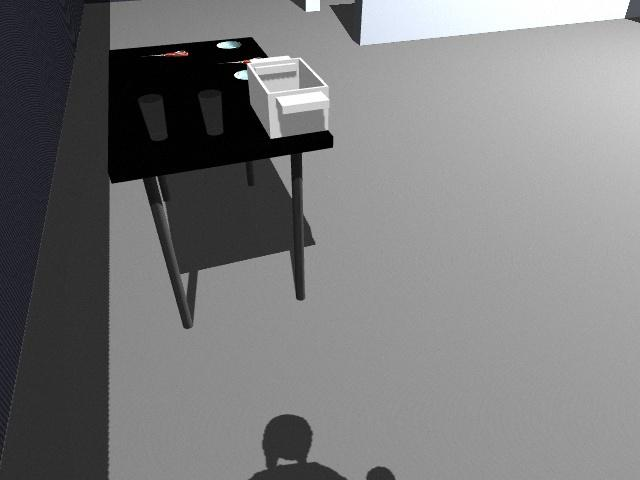cup: (139, 92, 168, 144), (197, 89, 223, 135)
plate: (215, 39, 243, 51), (234, 68, 248, 82)
scissors: (150, 48, 195, 60), (223, 59, 260, 64)
